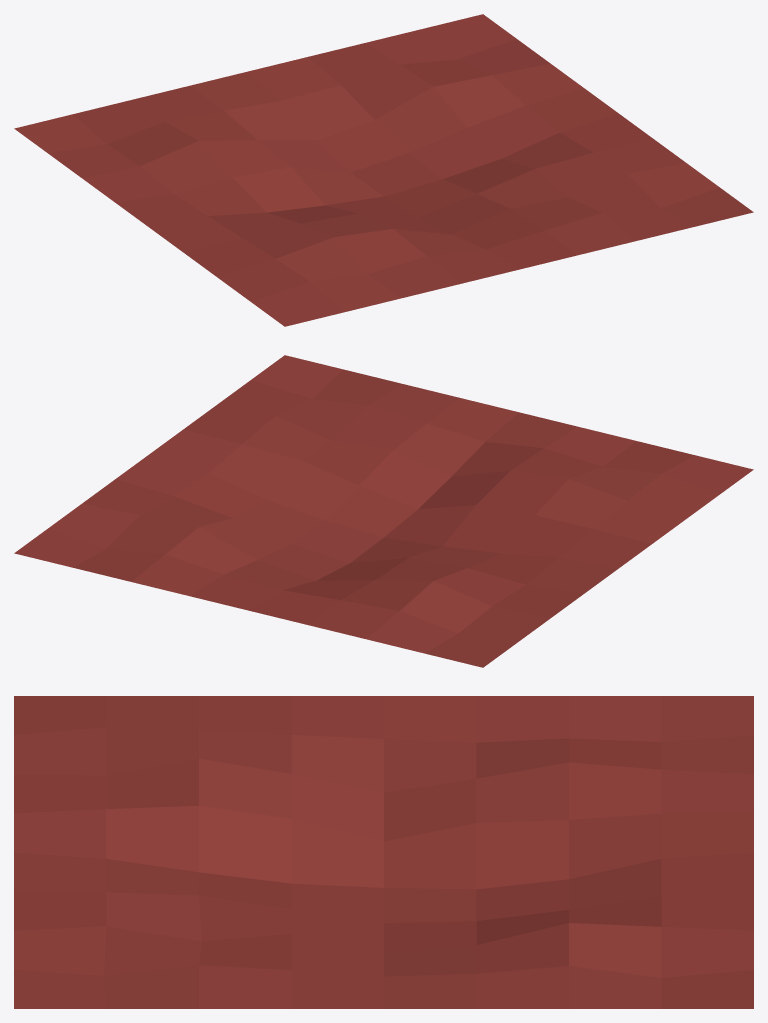
File: Terrain_22_Red.fbx
3 views of the same model, one above another, from view 1: azimuth 30°, elevation 25°; view 2: azimuth 150°, elevation 25°; view 3: azimuth 270°, elevation 25° (orthographic). The views are drawn at different scales.
Visible parts, largest first — view 1: Terrain_22_Red; view 2: Terrain_22_Red; view 3: Terrain_22_Red.
Part boxes in pixels (left/top/right/bottom): Terrain_22_Red: left=14, top=14, right=753, bottom=326; Terrain_22_Red: left=14, top=355, right=753, bottom=667; Terrain_22_Red: left=14, top=696, right=753, bottom=1008.
Bounding box in the file's own units: 10000 × 784 × 10000.
